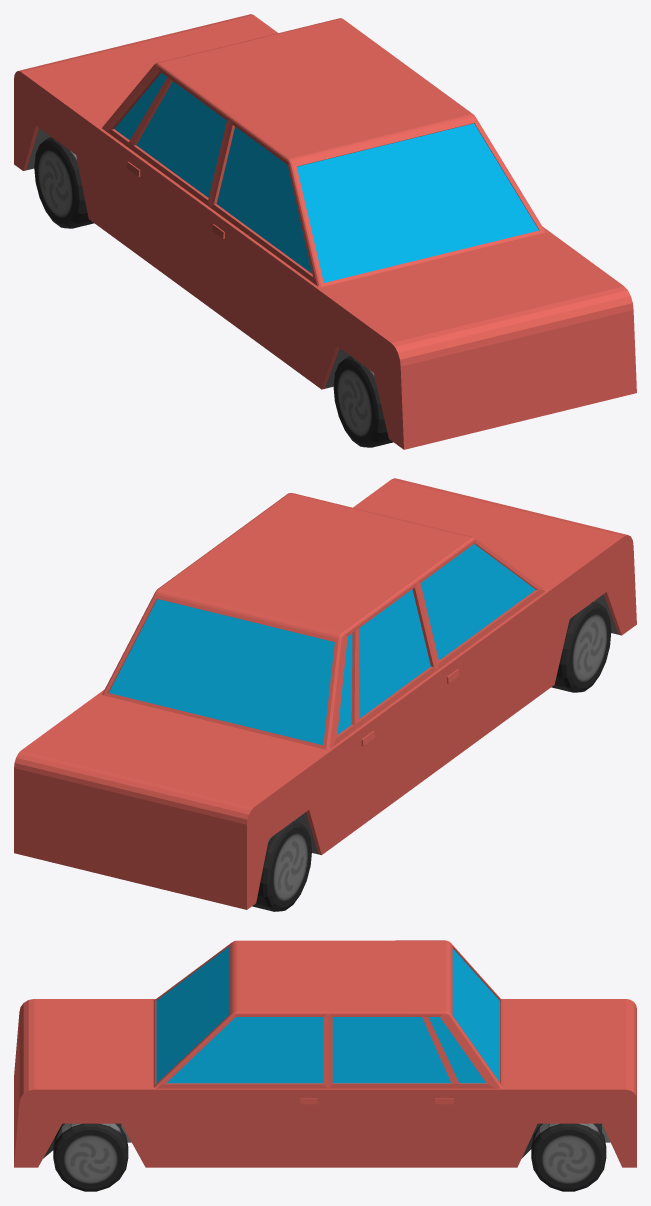
File: Sudan.fbx
3 views of the same model, one above another, from view 1: azimuth 30°, elevation 25°; view 2: azimuth 150°, elevation 25°; view 3: azimuth 270°, elevation 25° (orthographic). The views are drawn at different scales.
Parts seen in each view (by area): view 1: MainBody, Wheel.002, Wheel.003; view 2: MainBody, Wheel.002, Wheel.003; view 3: MainBody, Wheel.001, Wheel.
Boxes of the visible parts, left/top/right/bottom form: MainBody: left=14, top=14, right=636, bottom=449; Wheel.002: left=34, top=137, right=93, bottom=228; Wheel.003: left=333, top=356, right=393, bottom=447; MainBody: left=14, top=478, right=636, bottom=909; Wheel.002: left=252, top=820, right=311, bottom=911; Wheel.003: left=551, top=601, right=611, bottom=692; MainBody: left=14, top=940, right=636, bottom=1167; Wheel.001: left=531, top=1123, right=606, bottom=1191; Wheel: left=53, top=1123, right=128, bottom=1191.
Bounding box in the file's own units: 409 × 350 × 1160.
Materials: 7 (4 with a texture image).
